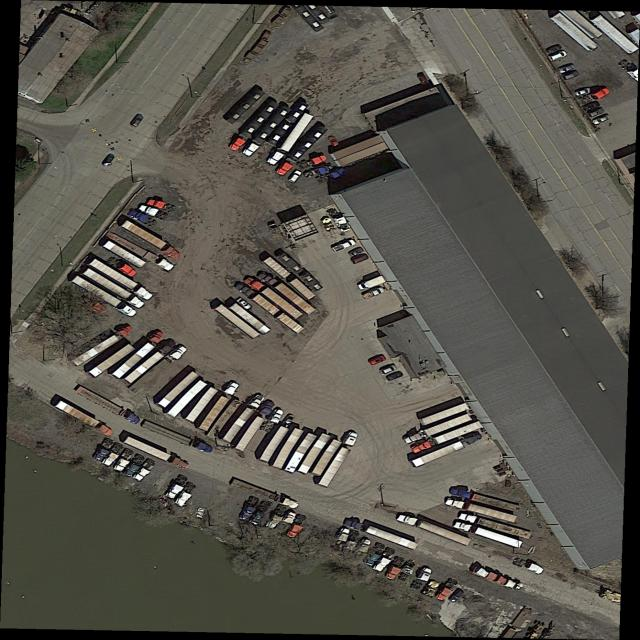large-vehicle: (235, 282, 305, 335), (105, 231, 176, 273), (71, 276, 137, 318), (275, 125, 329, 176), (243, 276, 304, 321), (90, 259, 155, 301), (74, 386, 142, 426), (242, 105, 293, 158), (257, 271, 316, 316), (342, 517, 419, 551), (396, 513, 473, 547), (229, 101, 280, 152), (112, 331, 166, 379), (266, 113, 314, 166), (82, 269, 145, 309), (141, 420, 214, 454), (411, 433, 484, 467), (72, 326, 134, 366), (121, 220, 182, 260), (122, 436, 190, 471), (411, 421, 483, 454), (318, 431, 359, 488), (197, 381, 242, 431), (125, 340, 176, 384), (234, 400, 276, 453), (404, 413, 473, 445), (230, 480, 300, 511), (55, 401, 115, 437), (221, 394, 265, 443), (592, 14, 639, 55), (459, 513, 533, 539), (453, 521, 523, 548), (258, 415, 297, 463), (445, 498, 518, 523), (552, 13, 598, 52), (450, 488, 520, 513), (88, 344, 136, 378), (214, 305, 260, 340), (166, 380, 208, 418), (157, 372, 199, 408), (470, 565, 525, 592), (283, 433, 318, 474), (297, 434, 332, 475), (559, 10, 603, 41), (272, 428, 304, 469), (229, 304, 271, 335), (184, 387, 219, 423), (419, 403, 470, 427), (310, 439, 342, 477), (103, 241, 146, 268), (262, 257, 290, 279), (288, 279, 316, 301), (618, 59, 639, 83), (358, 276, 386, 292), (628, 28, 640, 46), (608, 11, 626, 20), (632, 13, 640, 25)
small-vehicle: (261, 409, 285, 433), (331, 240, 357, 253), (362, 287, 386, 301), (547, 49, 568, 62), (591, 113, 612, 126), (236, 297, 254, 311), (448, 588, 464, 603), (586, 107, 606, 119), (287, 169, 303, 184), (544, 43, 563, 55), (557, 63, 576, 75), (328, 135, 342, 151), (562, 69, 580, 81), (583, 100, 601, 112), (351, 254, 369, 266), (130, 114, 145, 128), (386, 371, 404, 382), (101, 154, 115, 168), (417, 73, 430, 88), (322, 217, 335, 232), (574, 87, 593, 97), (369, 355, 386, 366), (380, 365, 397, 376), (348, 248, 364, 258)
